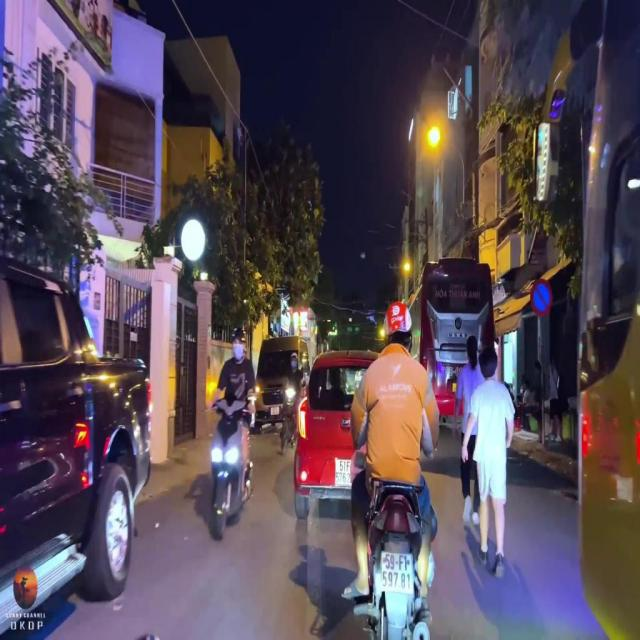cam_do_xe: (530, 279, 552, 318)
